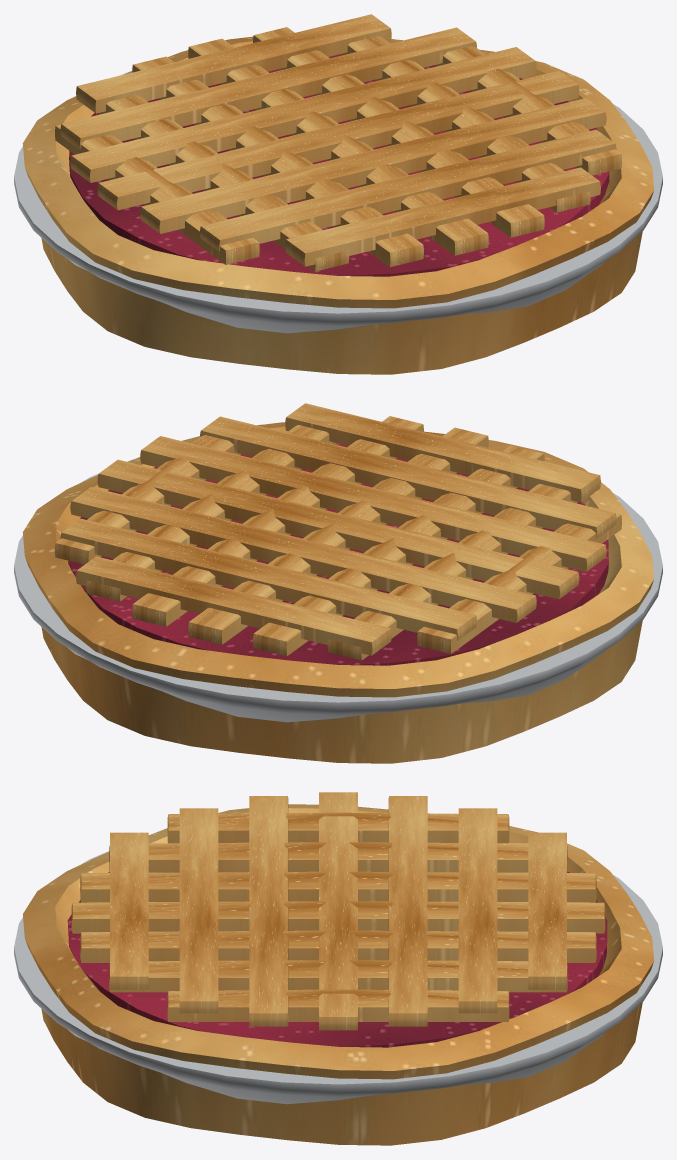
The model's file is bakery_pie_apple_lattice.glb.
The picture shows the model from 3 angles, top to bottom: view 1: azimuth 30°, elevation 25°; view 2: azimuth 150°, elevation 25°; view 3: azimuth 270°, elevation 25°; orthographic projection.
Parts seen in each view (by area): view 1: bakery_pie_apple_lattice; view 2: bakery_pie_apple_lattice; view 3: bakery_pie_apple_lattice.
Boxes of the visible parts, x1,y1,x2,y2 form: bakery_pie_apple_lattice: [14, 14, 662, 374]; bakery_pie_apple_lattice: [14, 403, 662, 763]; bakery_pie_apple_lattice: [14, 792, 662, 1145].
Size of the model in its own units: 0.242 by 0.0535 by 0.242.
3 materials, 2 textured.
